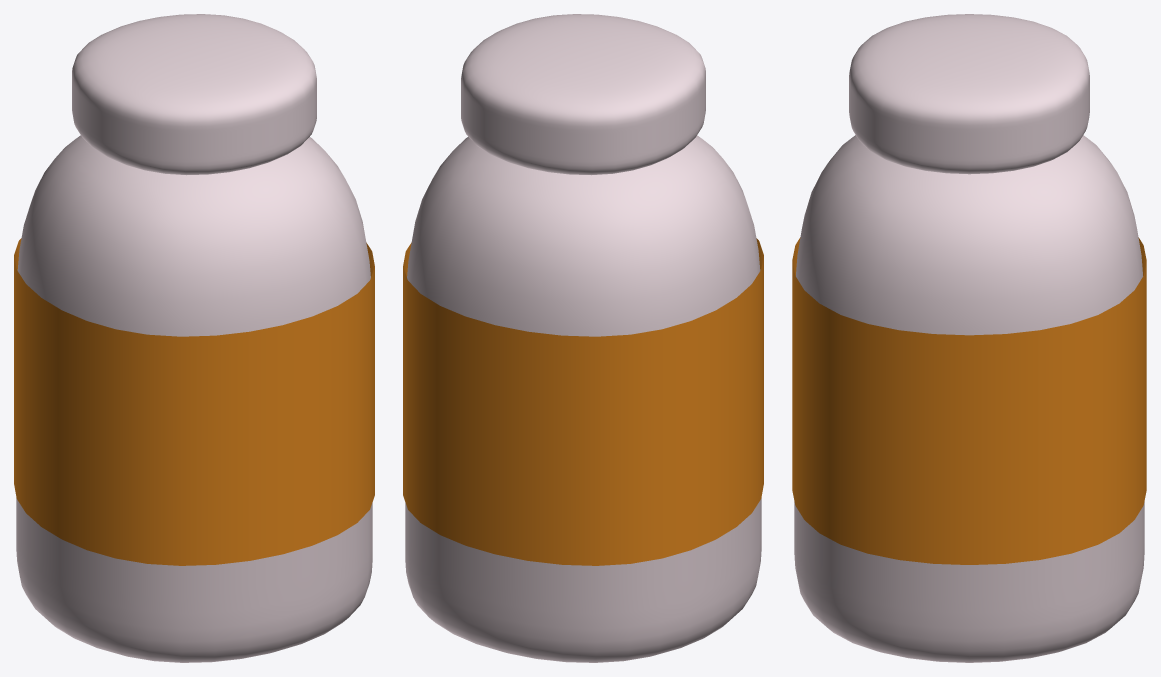
Rendered from Pills.fbx.
The picture shows the model from 3 angles, left to right: view 1: azimuth 30°, elevation 25°; view 2: azimuth 150°, elevation 25°; view 3: azimuth 270°, elevation 25°; orthographic projection.
Visible parts, largest first — view 1: Cube, Cube.002, Cube.001; view 2: Cube, Cube.002, Cube.001; view 3: Cube, Cube.002, Cube.001.
Boxes of the visible parts, x1=… form: Cube: x1=16, y1=135, x2=372, y2=662; Cube.002: x1=14, y1=238, x2=374, y2=565; Cube.001: x1=72, y1=14, x2=316, y2=175; Cube: x1=405, y1=135, x2=761, y2=662; Cube.002: x1=403, y1=238, x2=763, y2=565; Cube.001: x1=461, y1=14, x2=705, y2=175; Cube: x1=794, y1=135, x2=1144, y2=662; Cube.002: x1=792, y1=237, x2=1146, y2=564; Cube.001: x1=849, y1=14, x2=1089, y2=174.
Size of the model in its own units: 185 by 325 by 185.
